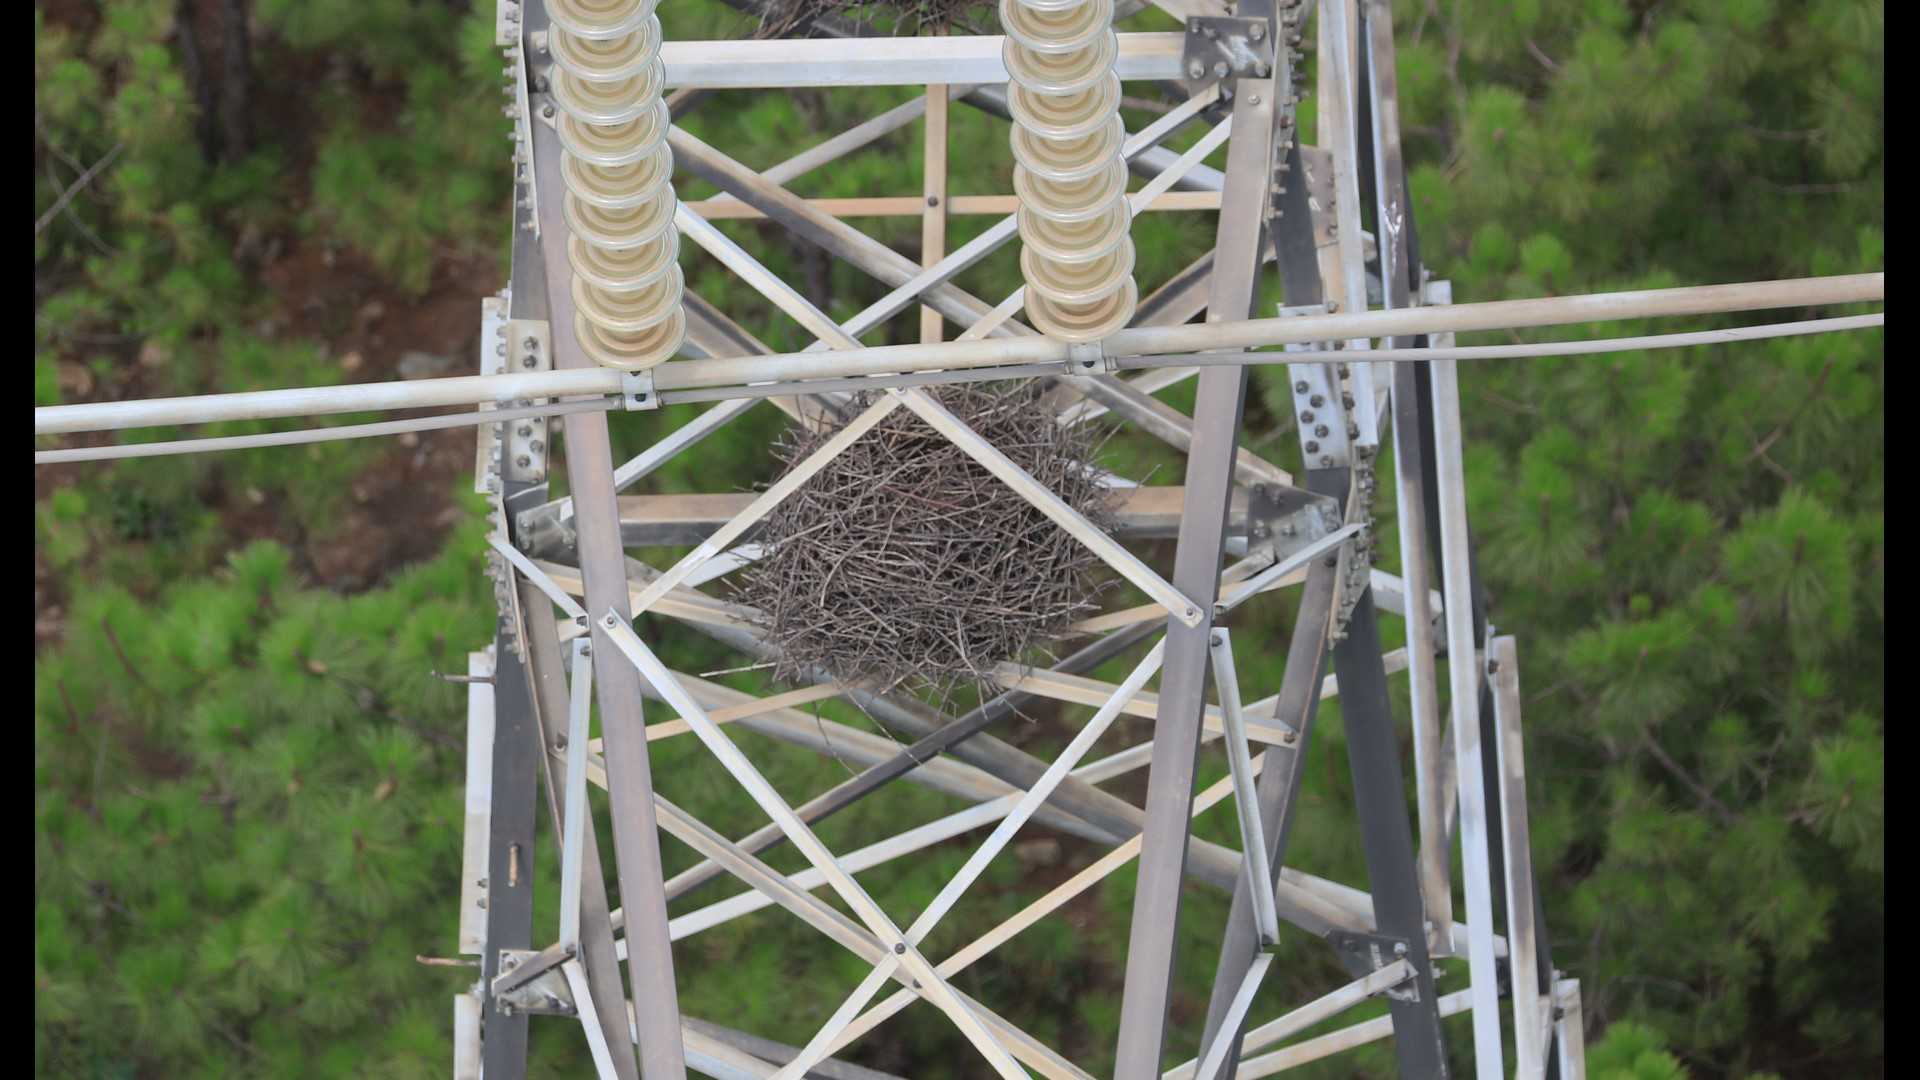niaowo: (746, 372, 1127, 694)
